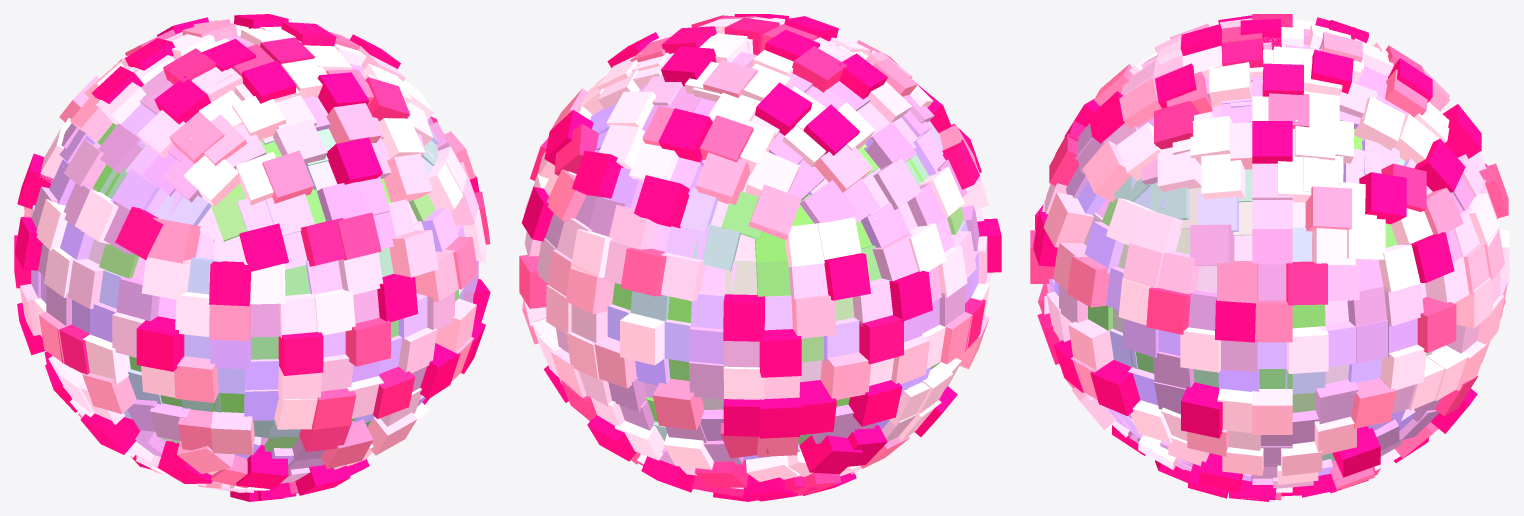
File: ColorBall.glb
3 renders of one model, left to right at view 1: azimuth 30°, elevation 25°; view 2: azimuth 150°, elevation 25°; view 3: azimuth 270°, elevation 25°, orthographic.
Visible parts, largest first — view 1: 物件_46, 物件_407, 物件_491, 物件_214, 物件_342, 物件_82, 物件_259, 物件_131, 物件_523, 物件_138, 物件_71, 物件_187 (+129 smaller); view 2: 物件_374, 物件_292, 物件_381, 物件_265, 物件_169, 物件_56, 物件_113, 物件_370, 物件_157, 物件_29, 物件_378, 物件_69 (+129 smaller); view 3: 物件_698, 物件_659, 物件_625, 物件_626, 物件_711, 物件_491, 物件_629, 物件_721, 物件_645, 物件_707, 物件_681, 物件_687 (+129 smaller).
Part boxes in pixels (x1=…): 物件_46: x1=136, y1=316, x2=184, y2=371; 物件_407: x1=326, y1=137, x2=382, y2=184; 物件_491: x1=389, y1=230, x2=438, y2=277; 物件_214: x1=278, y1=332, x2=323, y2=375; 物件_342: x1=345, y1=318, x2=390, y2=366; 物件_82: x1=174, y1=356, x2=218, y2=402; 物件_259: x1=262, y1=150, x2=313, y2=203; 物件_131: x1=209, y1=261, x2=250, y2=306; 物件_523: x1=383, y1=153, x2=432, y2=202; 物件_138: x1=211, y1=411, x2=254, y2=454; 物件_71: x1=147, y1=217, x2=200, y2=263; 物件_187: x1=239, y1=223, x2=288, y2=271; 物件_374: x1=634, y1=175, x2=689, y2=228; 物件_292: x1=653, y1=378, x2=704, y2=430; 物件_381: x1=620, y1=313, x2=664, y2=365; 物件_265: x1=695, y1=152, x2=750, y2=204; 物件_169: x1=723, y1=294, x2=764, y2=341; 物件_56: x1=820, y1=352, x2=870, y2=399; 物件_113: x1=759, y1=329, x2=801, y2=377; 物件_370: x1=658, y1=108, x2=712, y2=165; 物件_157: x1=748, y1=184, x2=801, y2=239; 物件_29: x1=859, y1=315, x2=903, y2=364; 物件_378: x1=620, y1=248, x2=666, y2=296; 物件_69: x1=824, y1=253, x2=870, y2=300; 物件_698: x1=1181, y1=382, x2=1222, y2=438; 物件_659: x1=1305, y1=186, x2=1351, y2=231; 物件_625: x1=1359, y1=172, x2=1406, y2=224; 物件_626: x1=1090, y1=360, x2=1140, y2=415; 物件_711: x1=1252, y1=389, x2=1292, y2=434; 物件_491: x1=1043, y1=192, x2=1093, y2=247; 物件_629: x1=1201, y1=154, x2=1245, y2=199; 物件_721: x1=1287, y1=326, x2=1328, y2=373; 物件_645: x1=1417, y1=297, x2=1456, y2=352; 物件_707: x1=1286, y1=261, x2=1327, y2=305; 物件_681: x1=1190, y1=224, x2=1234, y2=266; 物件_687: x1=1146, y1=287, x2=1190, y2=334.
Size of the model in its own units: 2.73 by 2.78 by 2.73.
